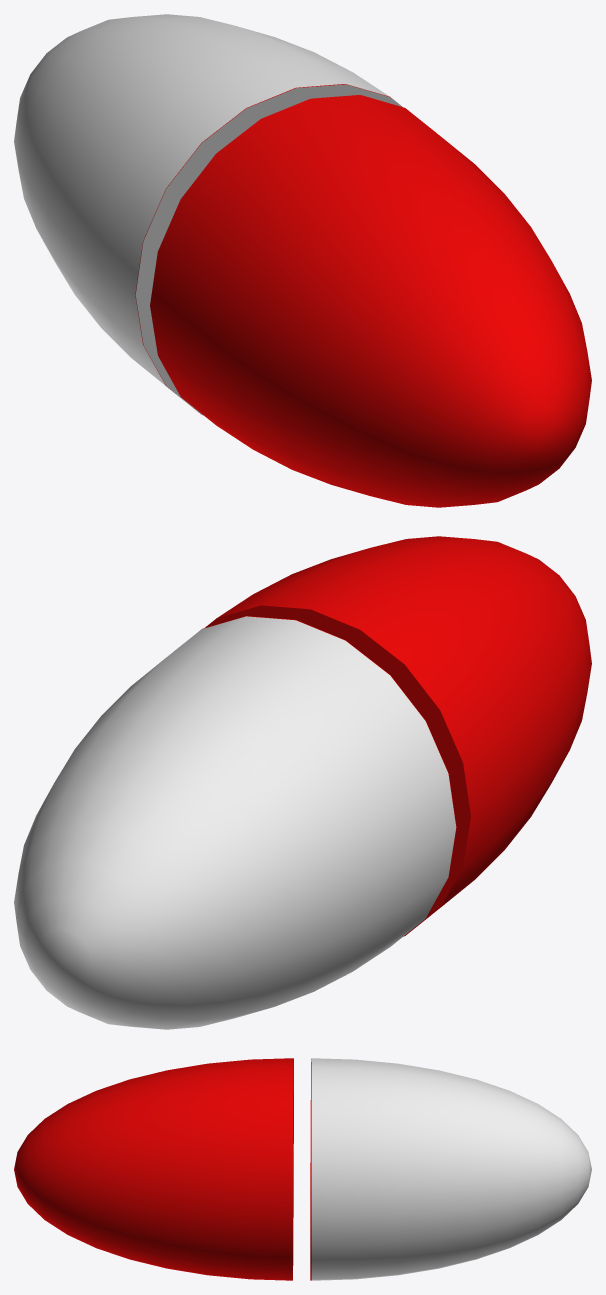
Rendered from Pill_Sliced.fbx.
The picture shows the model from 3 angles, top to bottom: view 1: azimuth 30°, elevation 25°; view 2: azimuth 150°, elevation 25°; view 3: azimuth 270°, elevation 25°; orthographic projection. The views are drawn at different scales.
Visible parts, largest first — view 1: polySurface2, polySurface1; view 2: polySurface1, polySurface2; view 3: polySurface1, polySurface2.
Boxes of the visible parts, bbox=[...] form: polySurface2: bbox=[150, 95, 591, 507]; polySurface1: bbox=[14, 14, 402, 415]; polySurface1: bbox=[14, 616, 456, 1029]; polySurface2: bbox=[205, 536, 591, 936]; polySurface1: bbox=[310, 1058, 591, 1280]; polySurface2: bbox=[14, 1058, 293, 1280].
Bounding box in the file's own units: 20 × 20 × 51.55.
